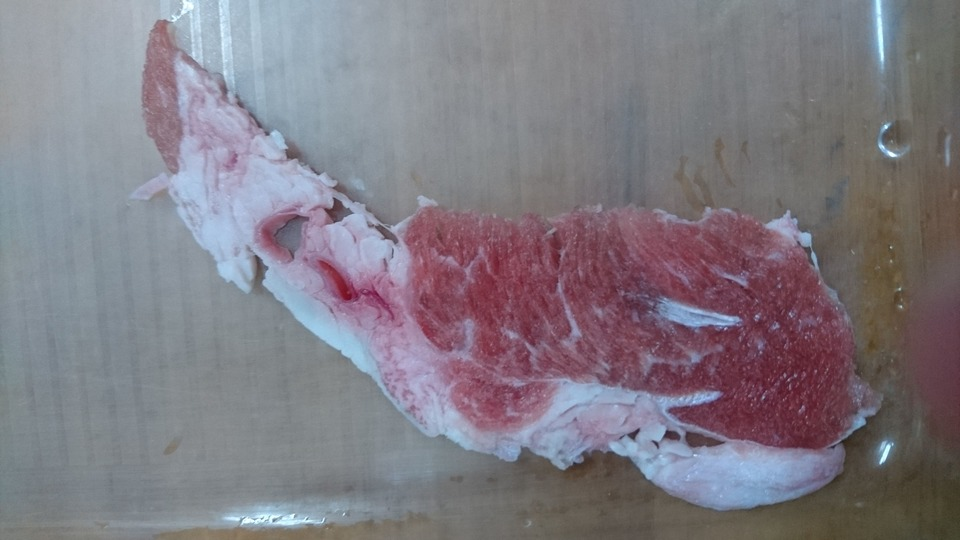restructured meat: (131, 18, 878, 508)
